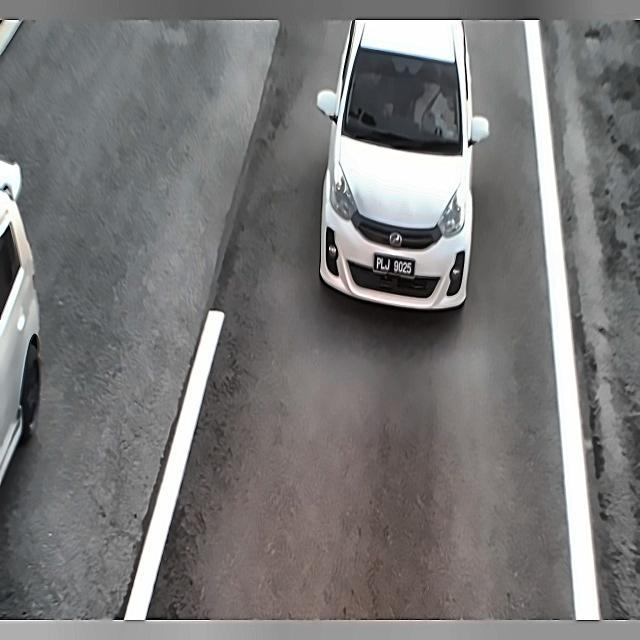car: (370, 245, 421, 281)
